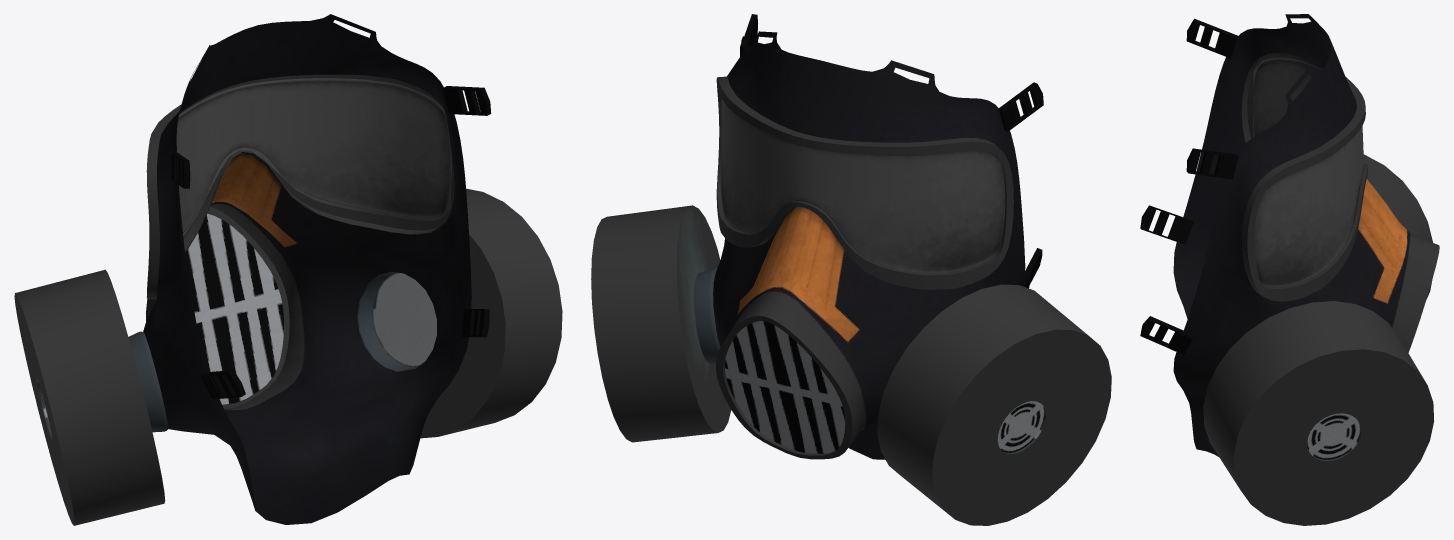
File: gas_mask_orange.glb
3 views of the same model, side by side, from view 1: azimuth 30°, elevation 25°; view 2: azimuth 150°, elevation 25°; view 3: azimuth 270°, elevation 25° (orthographic). The views are drawn at different scales.
Visible parts, largest first — view 1: gas_mask_orange_2, gas_mask_orange_1; view 2: gas_mask_orange_2, gas_mask_orange_1; view 3: gas_mask_orange_2, gas_mask_orange_1.
Part boxes in pixels (left/top/right/bottom): gas_mask_orange_2: left=14, top=14, right=562, bottom=525; gas_mask_orange_1: left=171, top=86, right=491, bottom=399; gas_mask_orange_2: left=591, top=31, right=1111, bottom=525; gas_mask_orange_1: left=740, top=14, right=1043, bottom=288; gas_mask_orange_2: left=1173, top=14, right=1439, bottom=525; gas_mask_orange_1: left=1140, top=18, right=1238, bottom=354.
Bounding box in the file's own units: 0.289 × 0.2526 × 0.1644.
2 materials, 1 textured.
